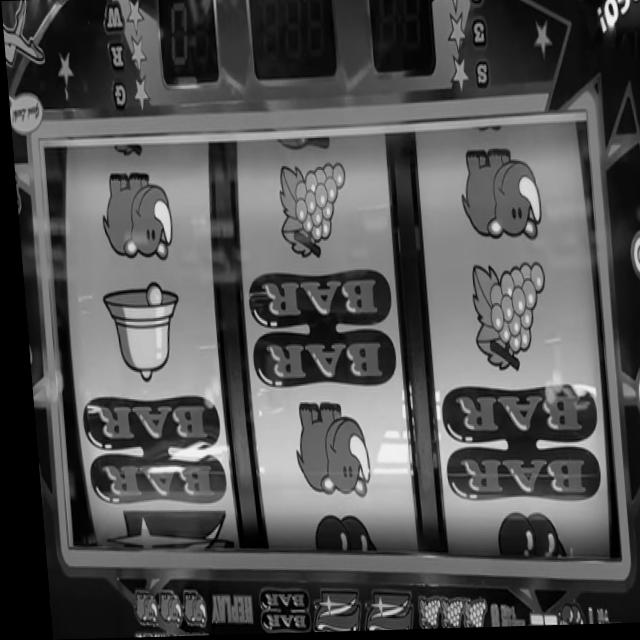bar: (431, 387, 596, 507), (71, 386, 221, 506), (240, 276, 393, 392), (249, 587, 302, 635)
bell: (95, 286, 180, 382)
cherry: (484, 509, 558, 565), (303, 518, 364, 556), (546, 606, 574, 628)
display: (34, 124, 612, 582)
elephant: (452, 152, 541, 247), (95, 169, 171, 264), (284, 409, 364, 497), (169, 588, 196, 625), (122, 589, 149, 623), (146, 590, 170, 626)
grape: (464, 264, 545, 377), (273, 158, 346, 259), (407, 597, 434, 631), (430, 598, 456, 631), (452, 600, 477, 630)
z: (96, 508, 226, 554), (352, 589, 403, 633), (302, 589, 349, 634)
